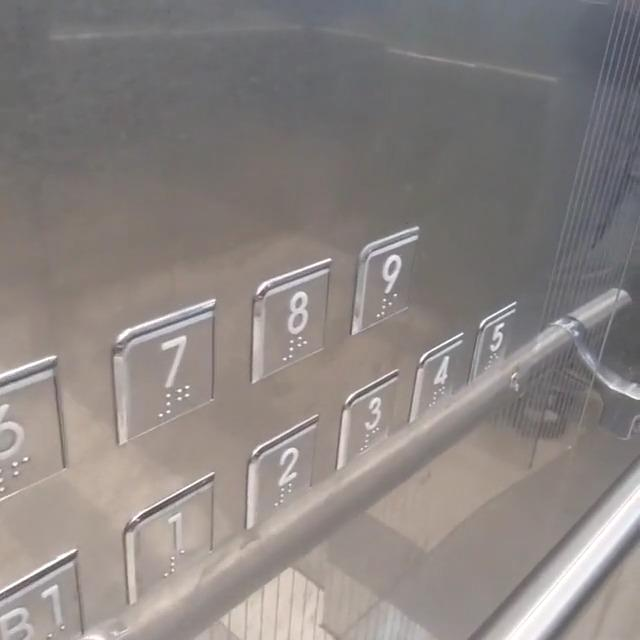button: (122, 503, 217, 595), (139, 322, 221, 422), (257, 280, 332, 362), (350, 243, 420, 328), (0, 585, 84, 640), (250, 441, 320, 506), (349, 385, 404, 449), (483, 311, 523, 374), (426, 349, 466, 411)
